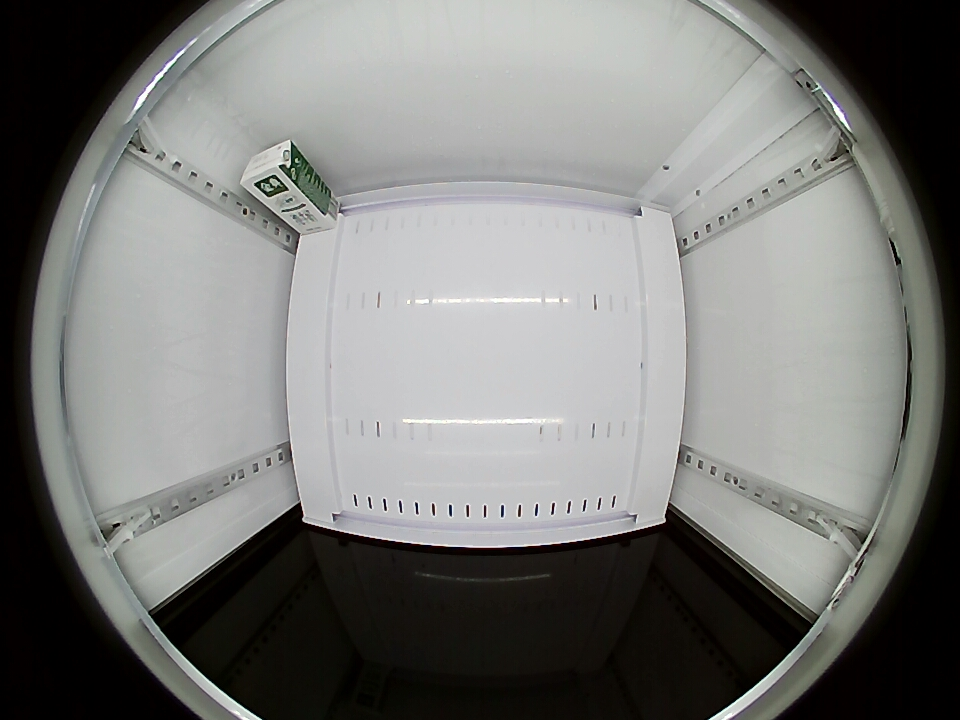jindian: (240, 138, 308, 205)
